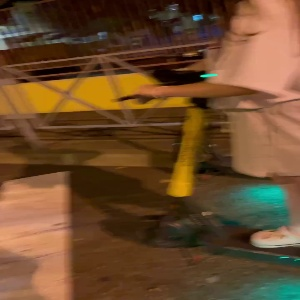human on a scooter: (107, 1, 300, 270)
